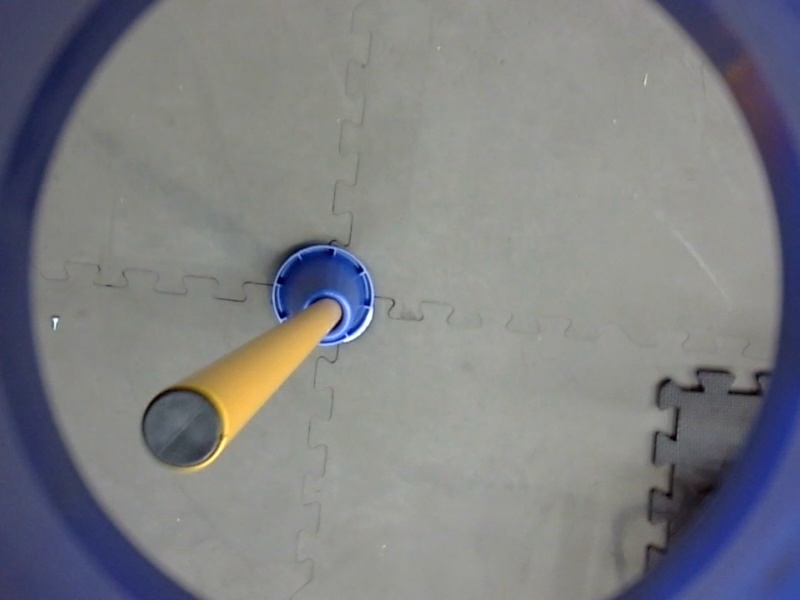tip: (136, 380, 232, 477)
